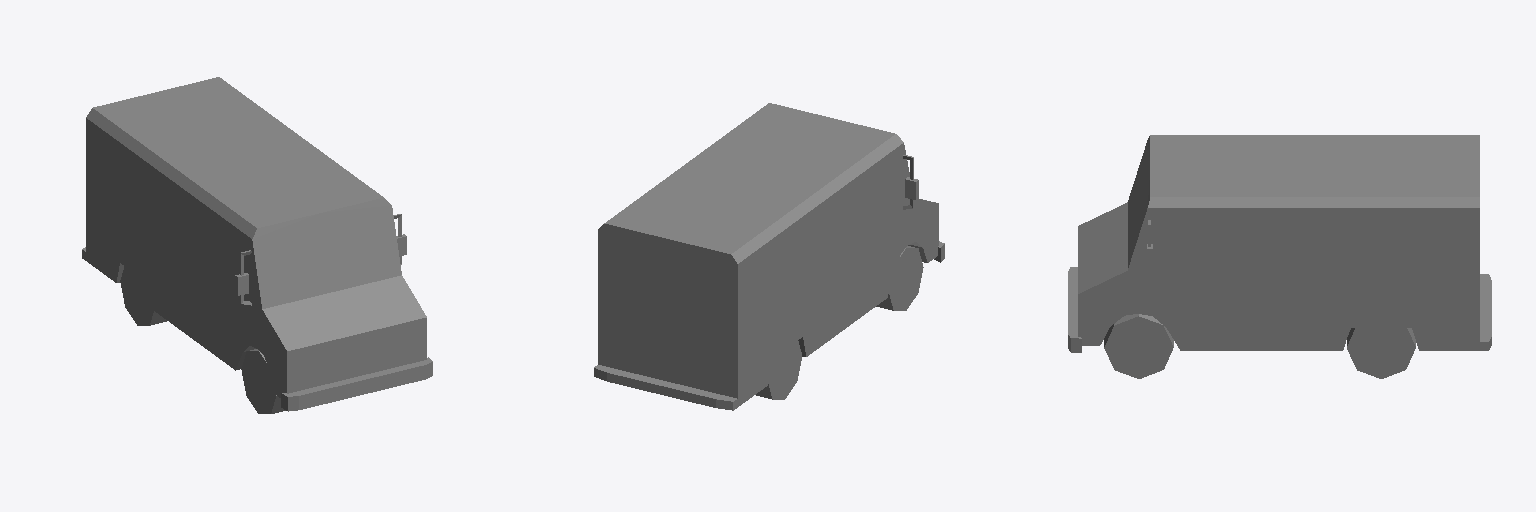
Rendered from Car8.obj.
The picture shows the model from 3 angles: view 1: azimuth 30°, elevation 25°; view 2: azimuth 150°, elevation 25°; view 3: azimuth 270°, elevation 25°; orthographic projection.
Visible parts, largest first — view 1: Car8; view 2: Car8; view 3: Car8.
Part boxes in pixels (bbox=[...]): Car8: bbox=[82, 77, 432, 413]; Car8: bbox=[594, 103, 944, 410]; Car8: bbox=[1068, 135, 1491, 378].
Bounding box in the file's own units: 3.17 × 3.23 × 6.89.